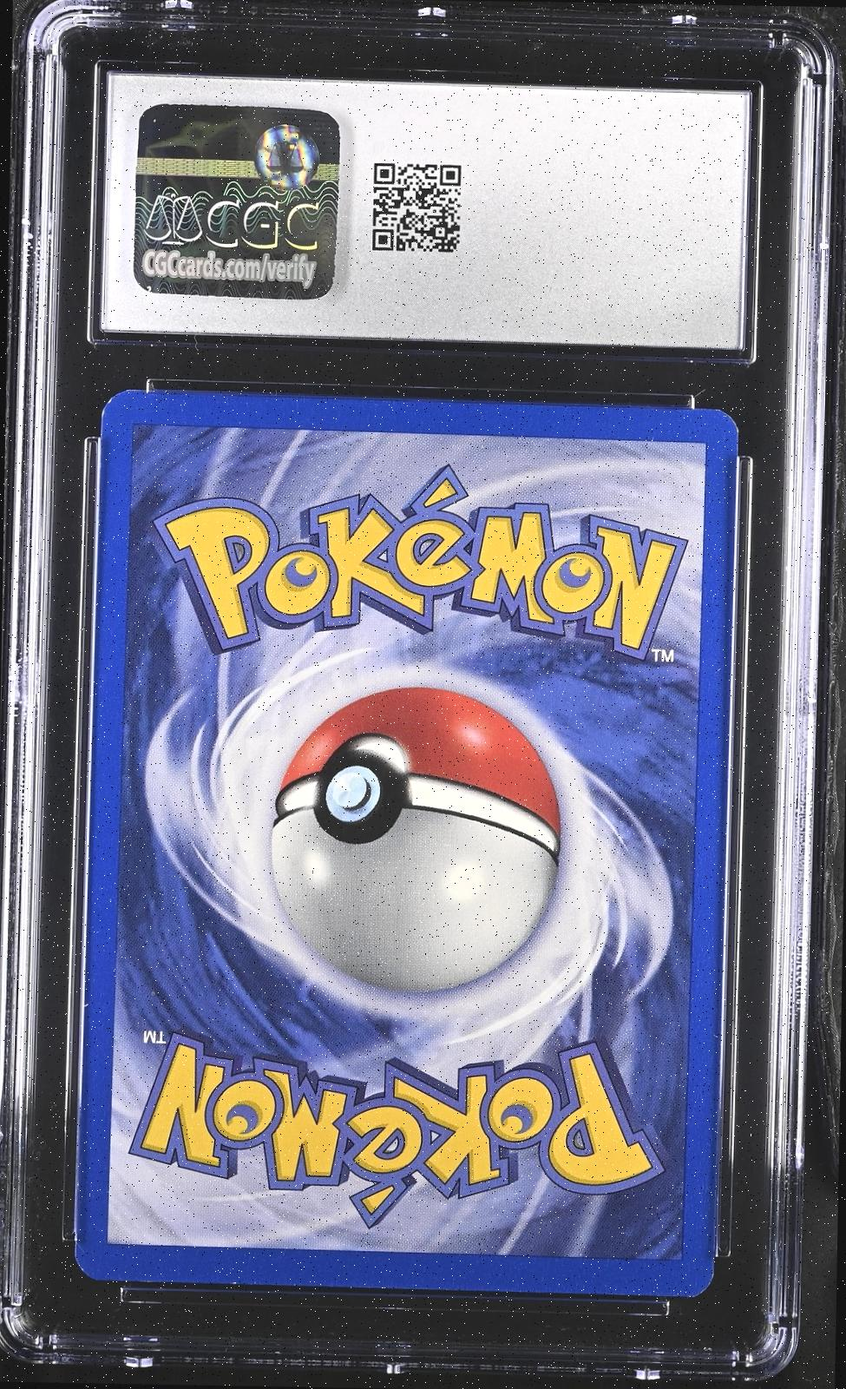card-2UtV: (74, 389, 739, 1298)
